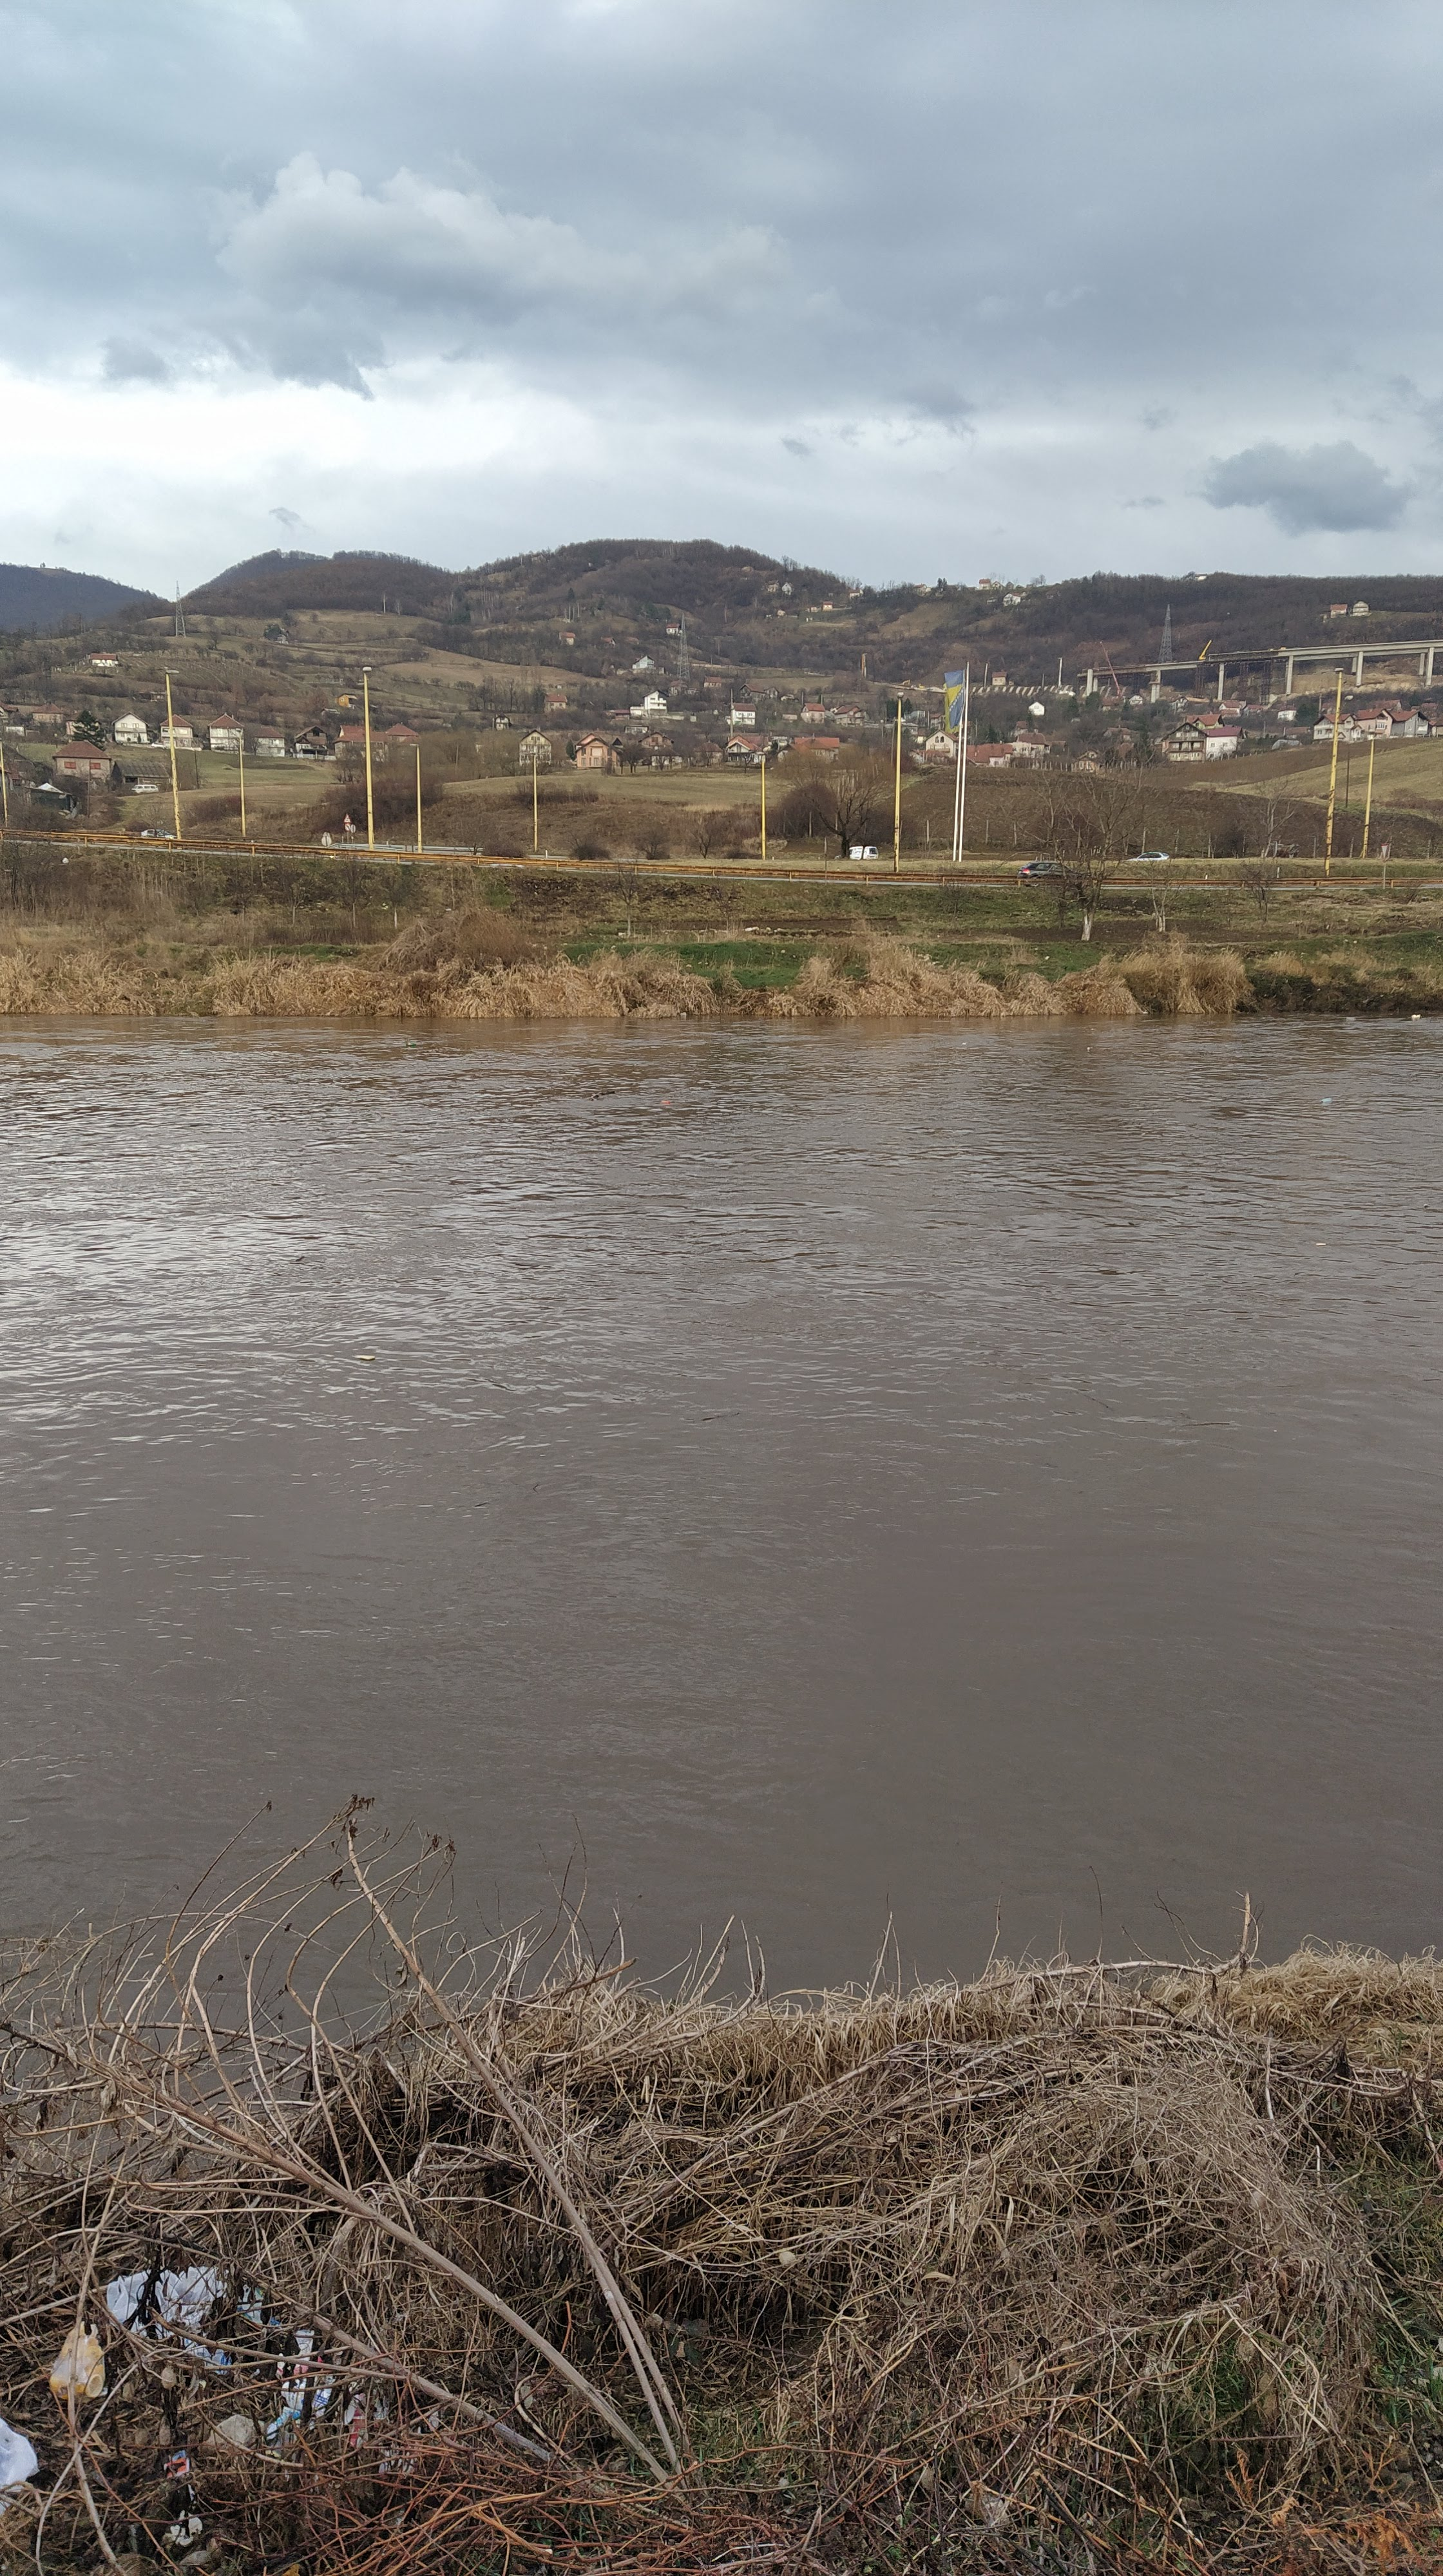Plastic Bottle: (354, 1353, 375, 1361), (1316, 1242, 1326, 1246), (1346, 1017, 1354, 1021), (1323, 1099, 1331, 1102), (1411, 1014, 1420, 1017), (407, 1042, 414, 1046), (680, 1012, 685, 1016), (662, 1100, 667, 1102)
